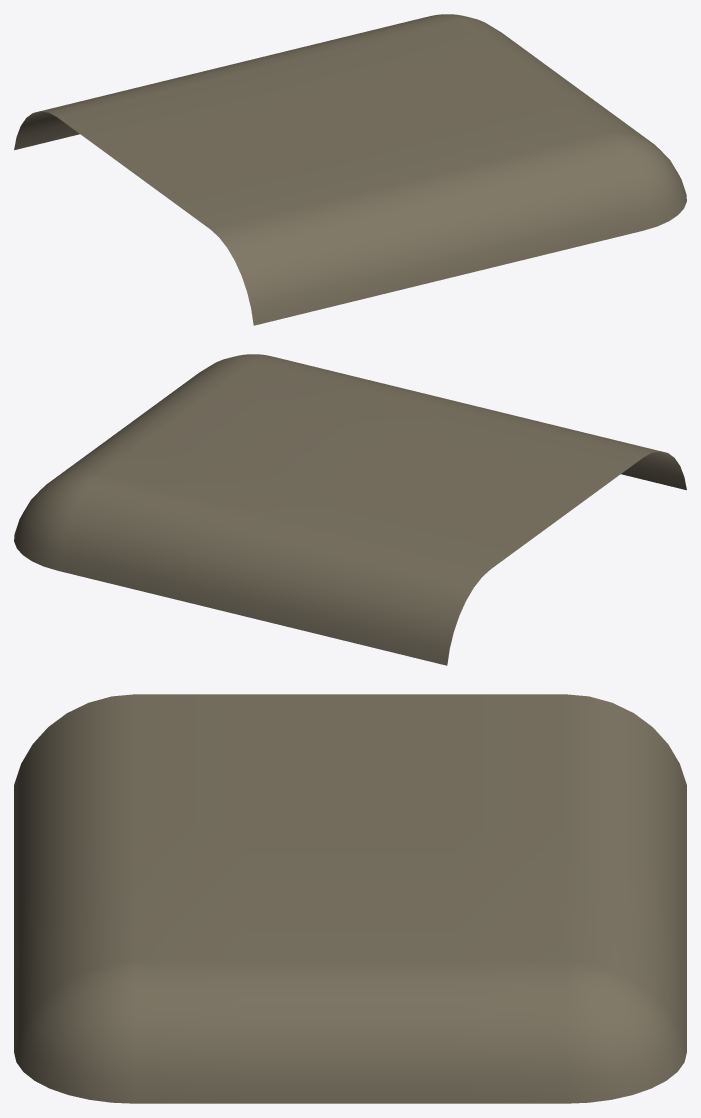
Rendered from SM_roof.fbx.
3 renders of one model, top to bottom at view 1: azimuth 30°, elevation 25°; view 2: azimuth 150°, elevation 25°; view 3: azimuth 270°, elevation 25°, orthographic. The views are drawn at different scales.
Visible parts, largest first — view 1: roof; view 2: roof; view 3: roof.
Part boxes in pixels (left/top/right/bottom): roof: left=14, top=14, right=686, bottom=325; roof: left=14, top=354, right=686, bottom=665; roof: left=14, top=694, right=686, bottom=1103.
Bounding box in the file's own units: 698 × 92.68 × 623.
